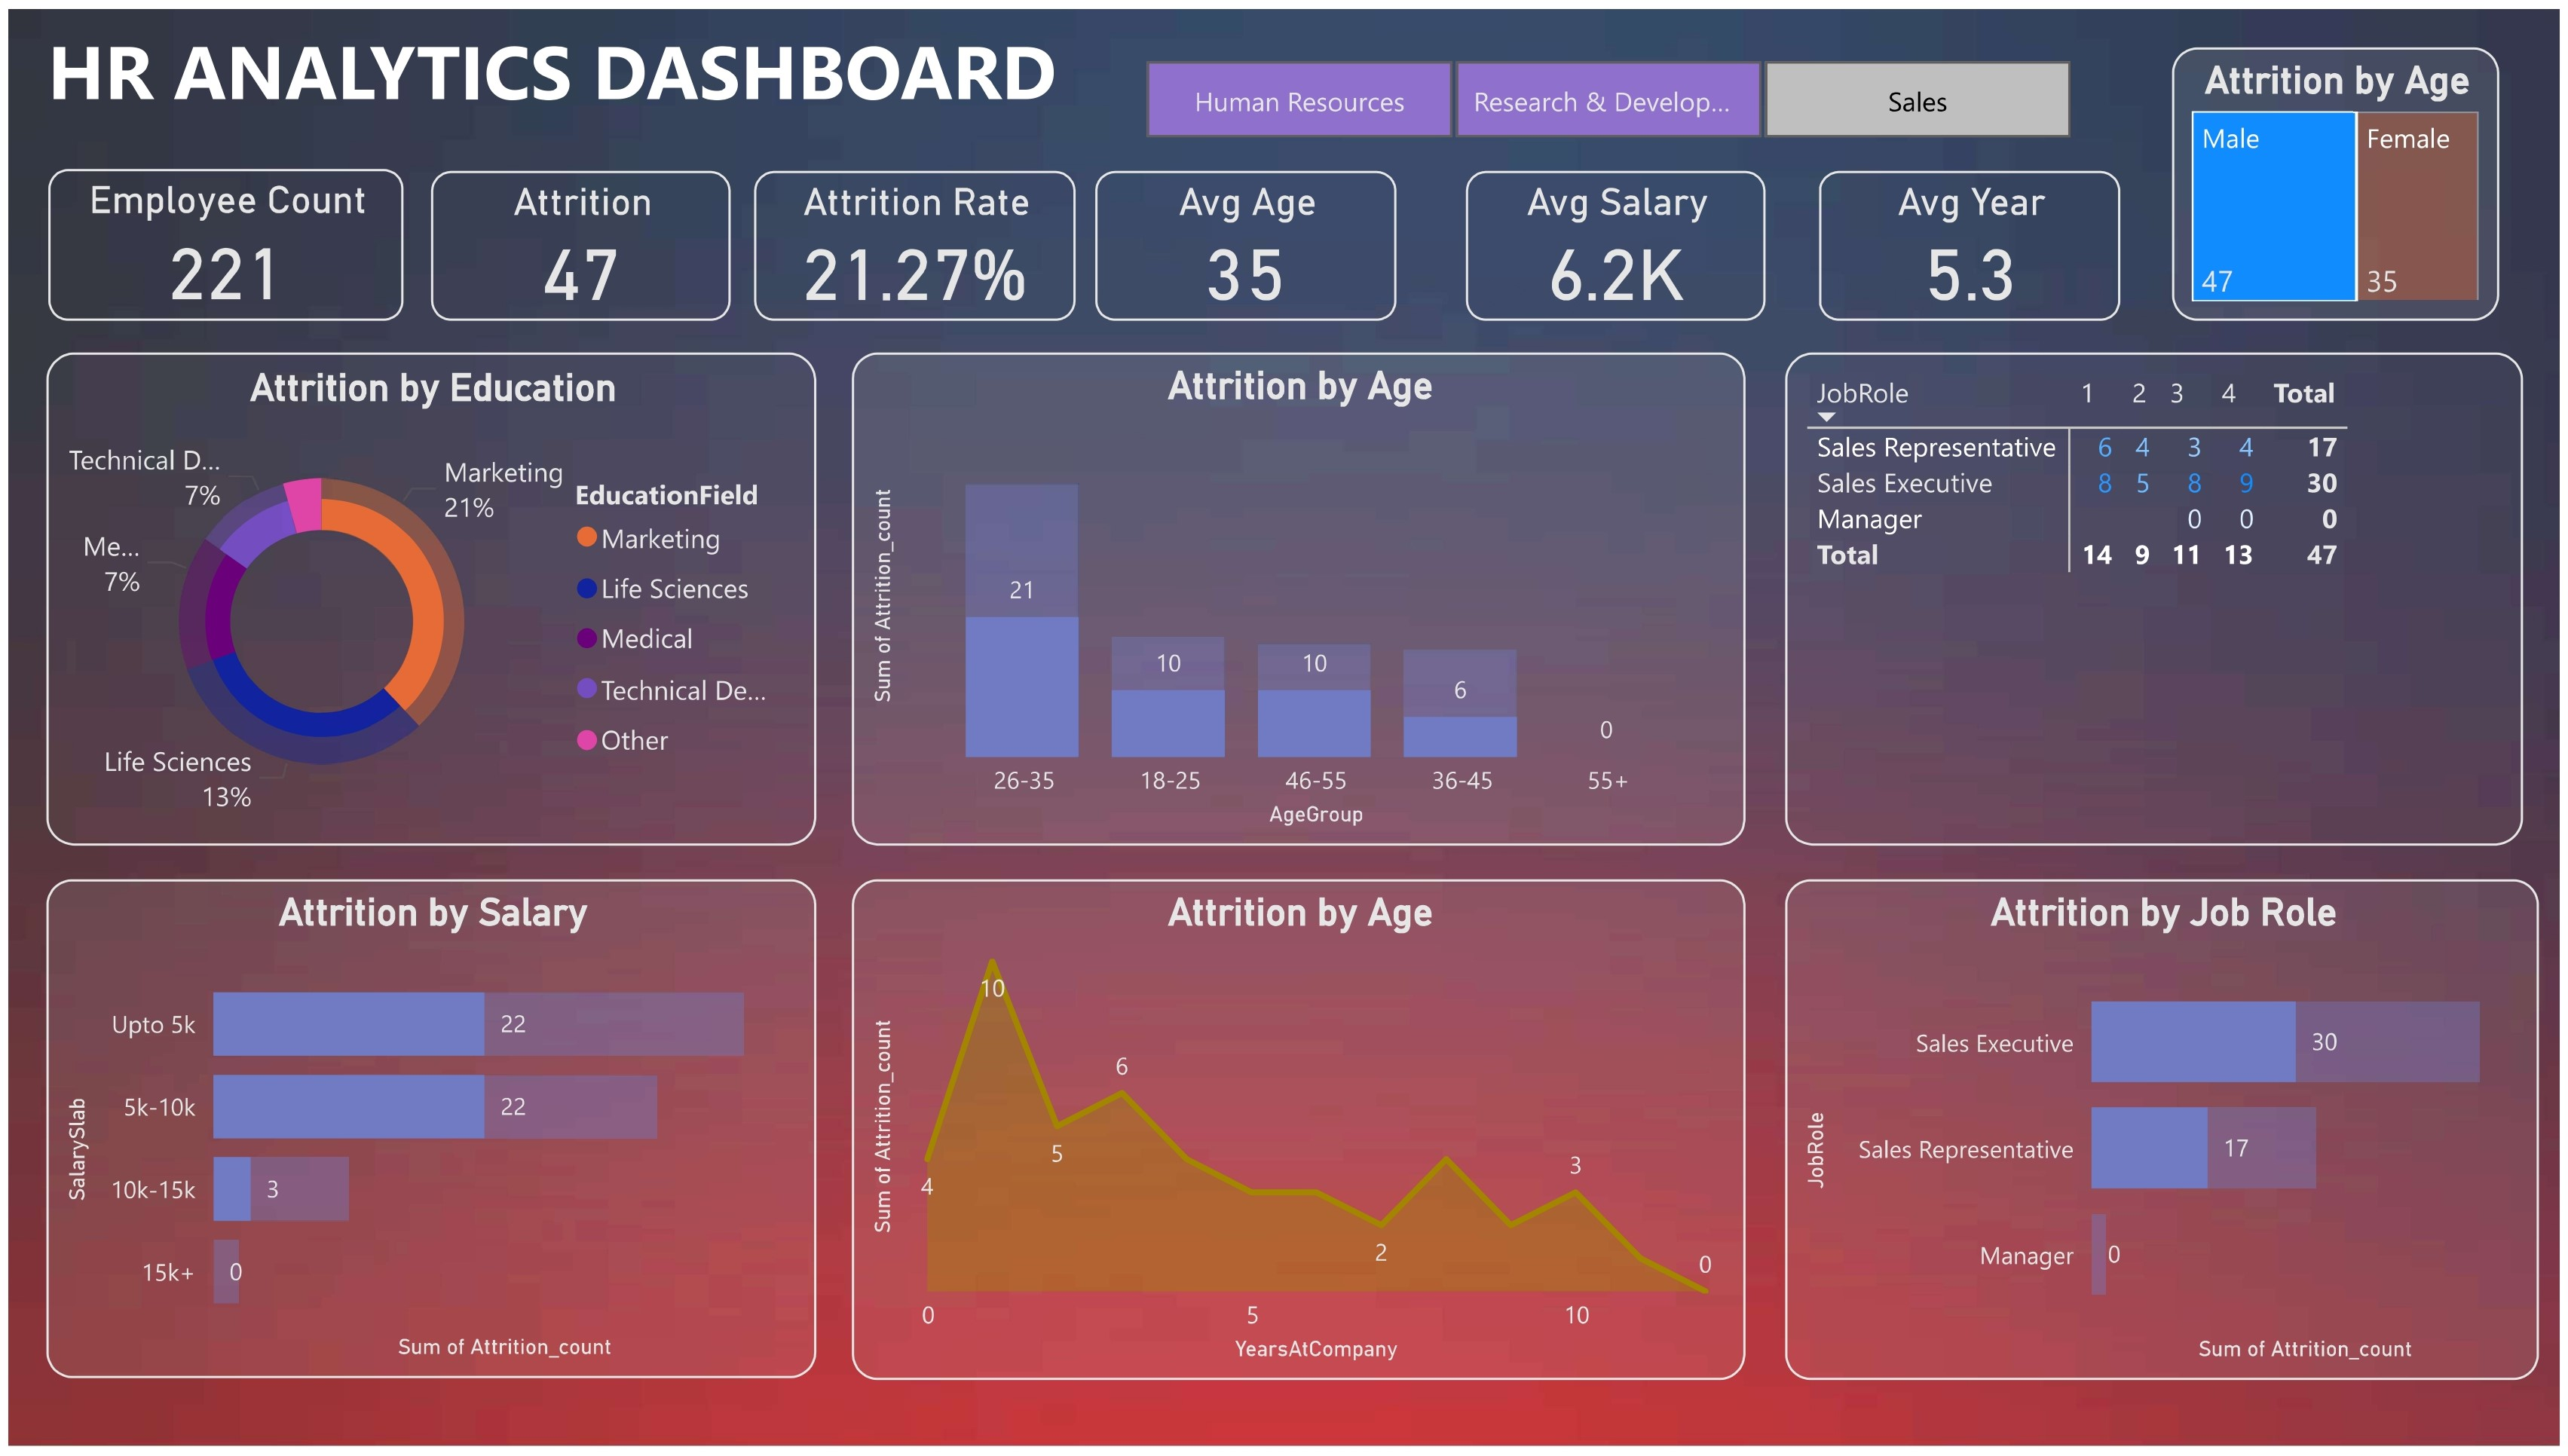

This screenshot's page, from the dashboard's own definition file:
{"tool":"powerbi","page":{"name":"Page 1","canvas":[1280,720],"ordinal":0},"visuals":[{"type":"card","title":"Avg Age","fields":{"Values":["Avg(HR_Analytics.Age)"]},"box":[544.8,81,150.9,75.5],"z":0},{"type":"card","title":"Attrition Rate","fields":{"Values":["HR_Analytics.AttritionRate"]},"box":[374,81.1,161,75.1],"z":1000},{"type":"card","title":"Attrition","fields":{"Values":["Sum(HR_Analytics.Attrition_count)"]},"box":[211.8,81.1,150.1,75.1],"z":2000},{"type":"card","title":"Avg Salary","fields":{"Values":["Avg(HR_Analytics.MonthlyIncome)"]},"box":[731.4,81,149.6,75.5],"z":3000},{"type":"card","title":"Avg Year","fields":{"Values":["Avg(HR_Analytics.YearsAtCompany)"]},"box":[908.4,81,150.9,75.5],"z":4000},{"type":"donutChart","title":"Attrition by Education","fields":{"Category":["HR_Analytics.EducationField"],"Y":["Sum(HR_Analytics.Attrition_count)"]},"box":[19.2,171.5,385.6,247],"z":5000},{"type":"columnChart","title":"Attrition by Age","fields":{"Category":["HR_Analytics.AgeGroup"],"Y":["Sum(HR_Analytics.Attrition_count)"]},"box":[422.6,171.5,448.7,247],"z":6000},{"type":"pivotTable","fields":{"Rows":["HR_Analytics.JobRole"],"Values":["Sum(HR_Analytics.Attrition_count)"],"Columns":["HR_Analytics.JobSatisfaction"]},"box":[890.6,171.5,370.5,247],"z":7000},{"type":"barChart","title":"Attrition by Salary","fields":{"Category":["HR_Analytics.SalarySlab"],"Y":["Sum(HR_Analytics.Attrition_count)"]},"box":[19.2,436.4,385.6,249.7],"z":8000},{"type":"barChart","title":"Attrition by Job Role","fields":{"Category":["HR_Analytics.JobRole"],"Y":["Sum(HR_Analytics.Attrition_count)"]},"box":[890.6,436.4,378.7,251.1],"z":9000},{"type":"areaChart","title":"Attrition by Age","fields":{"Category":["HR_Analytics.YearsAtCompany"],"Y":["Sum(HR_Analytics.Attrition_count)"]},"box":[422.6,436.4,448.7,251.1],"z":10000},{"type":"treemap","title":"Attrition by Age","fields":{"Group":["HR_Analytics.Gender"],"Values":["Sum(HR_Analytics.Attrition_count)"]},"box":[1085.4,19.2,163.3,137.2],"z":11000},{"type":"slicer","fields":{"Values":["HR_Analytics.Department"]},"box":[544.8,19.2,513.2,52.1],"z":12000},{"type":"textbox","box":[9.6,0,525.6,59],"z":13000},{"type":"card","title":"Employee Count","fields":{"Values":["CountNonNull(HR_Analytics.EmpID)"]},"box":[20,80,178,76],"z":14000}]}

Visuals, with their boxes in screenshot pixels (x1, y1, x2, y2), scaled from the page's 1280x720 canvas onto the 2568x1456 screenshot:
"Avg Age" card: rect(1093, 164, 1396, 317)
"Attrition Rate" card: rect(750, 164, 1073, 316)
"Attrition" card: rect(425, 164, 726, 316)
"Avg Salary" card: rect(1468, 164, 1768, 317)
"Avg Year" card: rect(1823, 164, 2126, 317)
"Attrition by Education" donutChart: rect(38, 347, 812, 846)
"Attrition by Age" columnChart: rect(848, 347, 1748, 846)
pivotTable - HR_Analytics.JobRole x Sum(HR_Analytics.Attrition_count): rect(1787, 347, 2530, 846)
"Attrition by Salary" barChart: rect(38, 882, 812, 1387)
"Attrition by Job Role" barChart: rect(1787, 882, 2547, 1390)
"Attrition by Age" areaChart: rect(848, 882, 1748, 1390)
"Attrition by Age" treemap: rect(2178, 39, 2505, 317)
slicer - HR_Analytics.Department: rect(1093, 39, 2123, 144)
textbox: rect(20, 0, 1074, 119)
"Employee Count" card: rect(40, 162, 397, 316)
